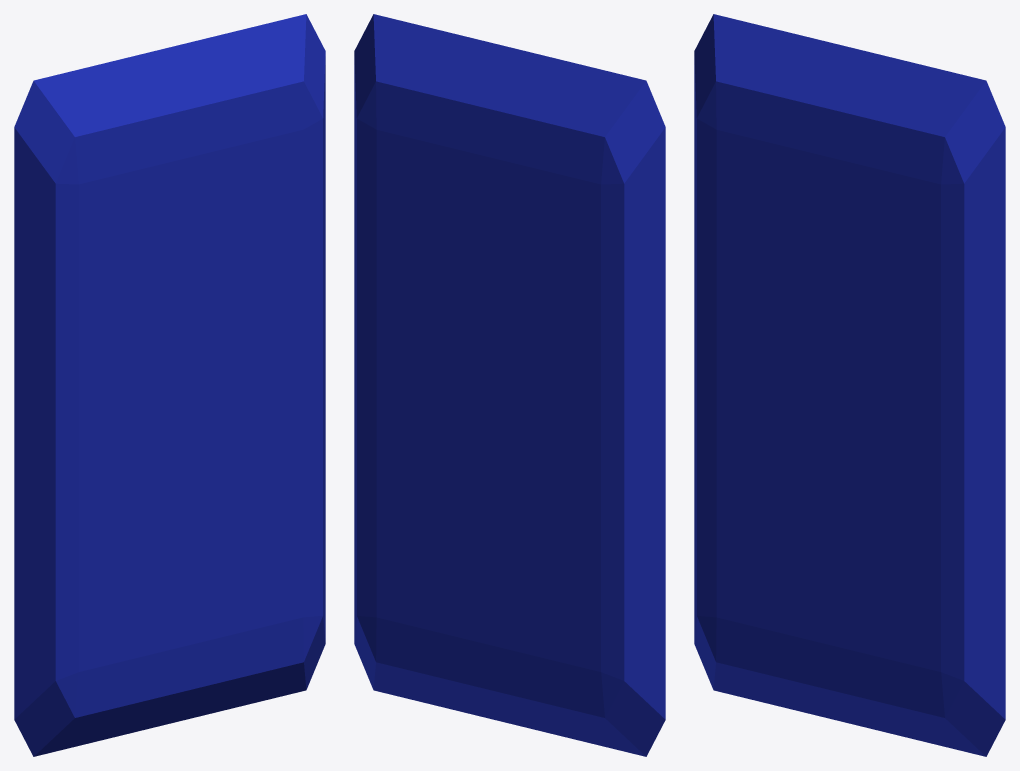
Rendered from Jewel_04.fbx.
3 views of the same model, side by side, from view 1: azimuth 30°, elevation 25°; view 2: azimuth 150°, elevation 25°; view 3: azimuth 330°, elevation 25° (orthographic).
Parts seen in each view (by area): view 1: Jewel_04; view 2: Jewel_04; view 3: Jewel_04.
Boxes of the visible parts, left/top/right/bottom form: Jewel_04: left=14, top=14, right=325, bottom=756; Jewel_04: left=354, top=14, right=665, bottom=756; Jewel_04: left=694, top=14, right=1005, bottom=756.
Size of the model in its own units: 328 by 682 by 77.09.
